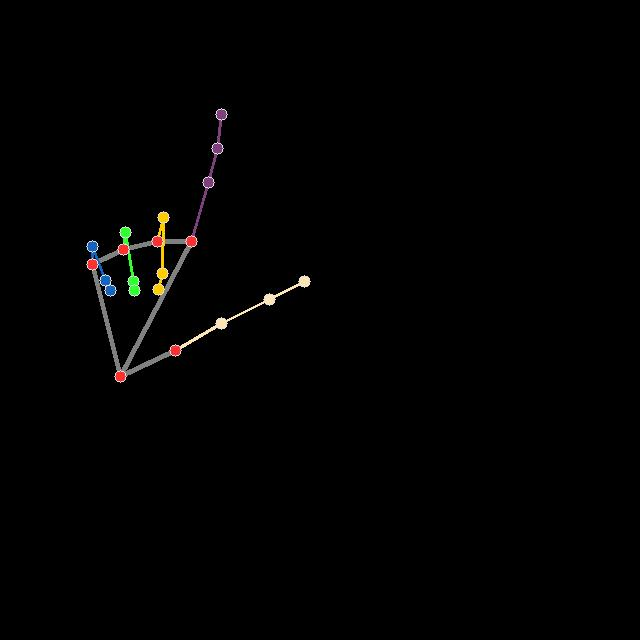gun: (82, 108, 314, 385)
